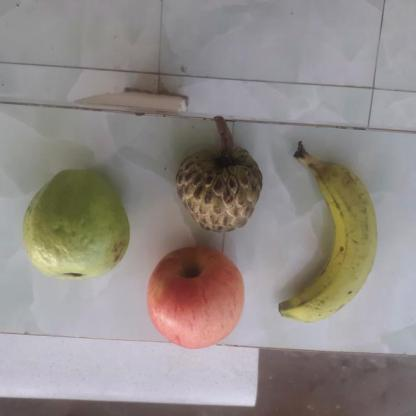annona: (172, 135, 261, 232)
apple: (145, 247, 246, 348)
banana: (277, 152, 377, 321)
guava: (21, 171, 127, 276)
